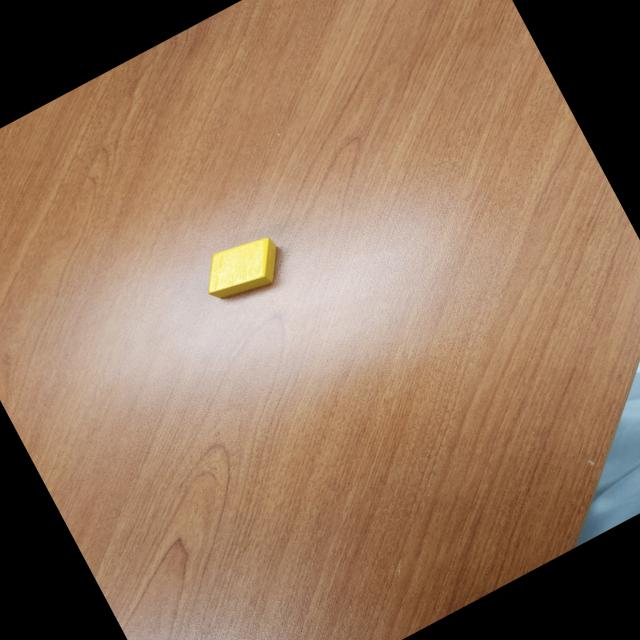yellow: (192, 225, 292, 312)
